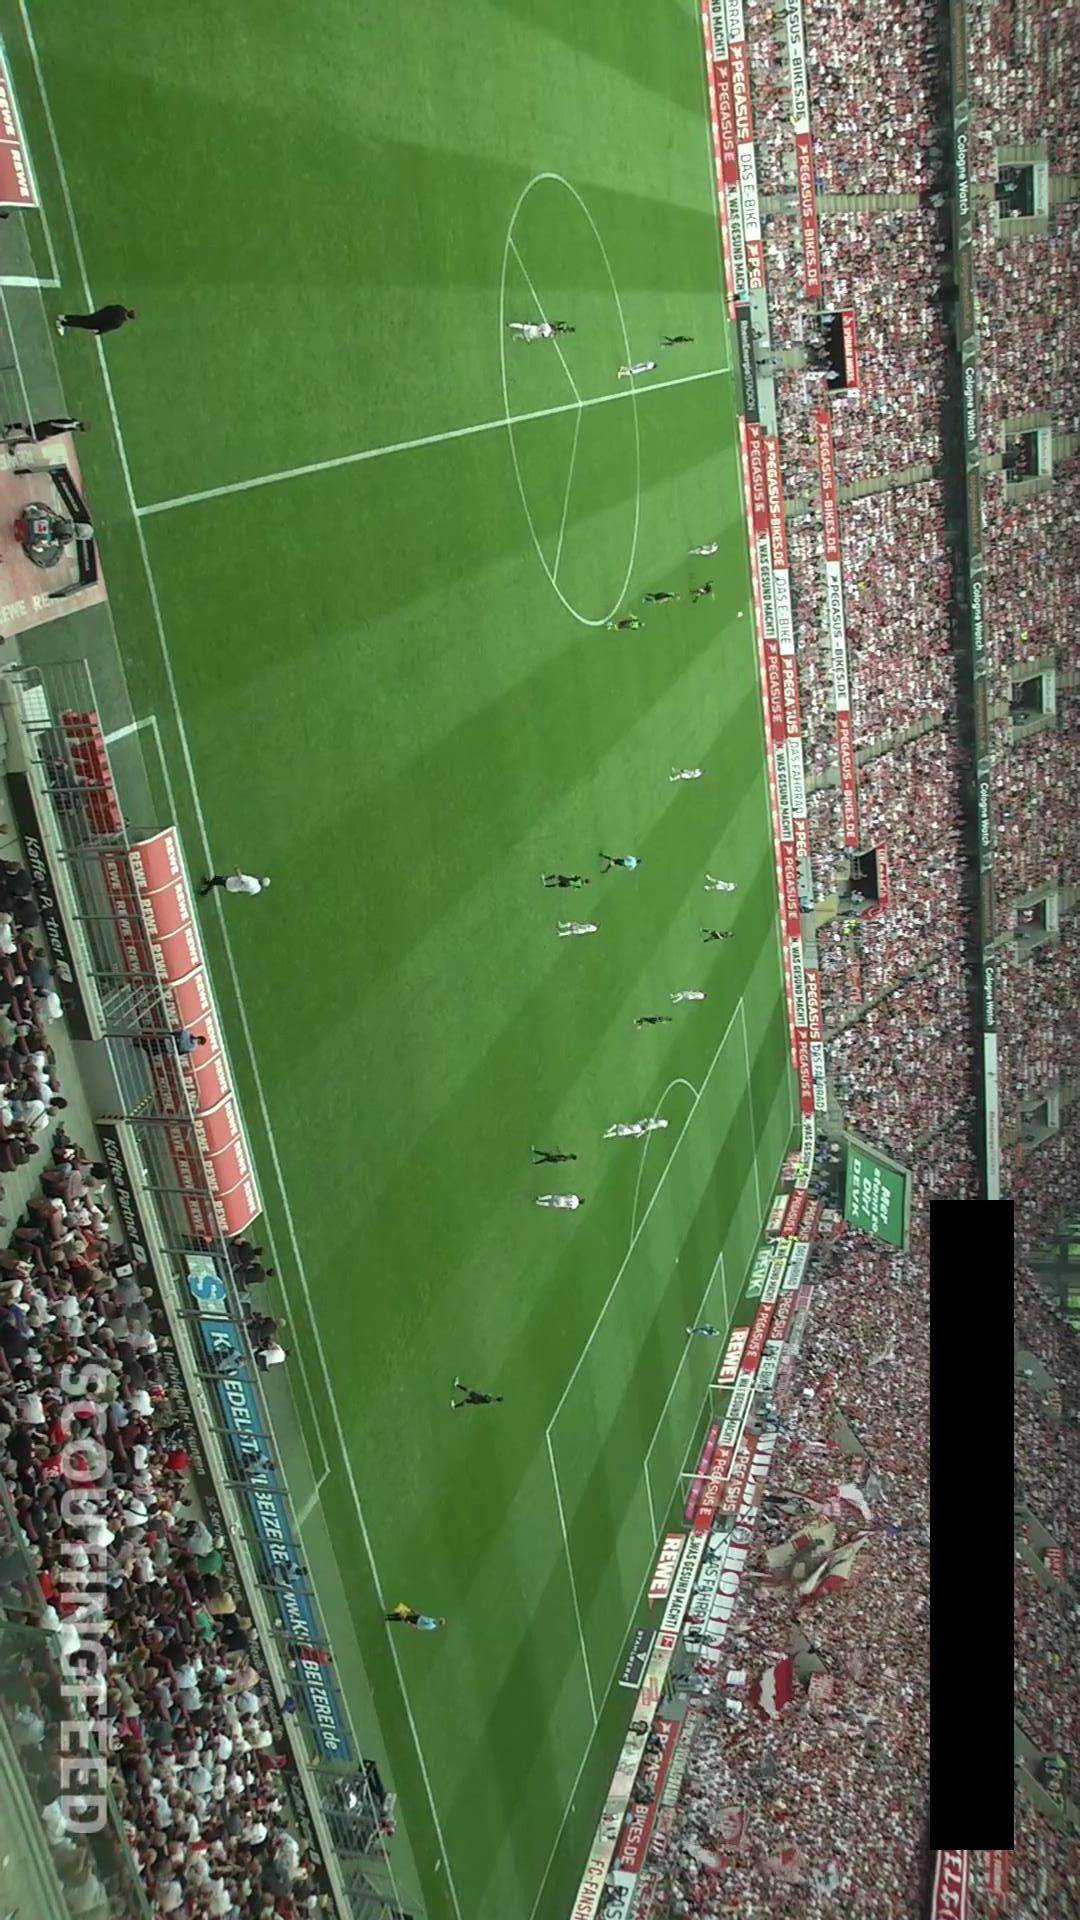ball: (735, 610, 745, 619)
goalkeeper: (685, 1324, 721, 1338)
player: (451, 1380, 504, 1409), (507, 321, 560, 343), (525, 320, 577, 341), (531, 1144, 579, 1166), (602, 1120, 649, 1140), (534, 1193, 586, 1211), (633, 1117, 673, 1139), (541, 873, 591, 889), (618, 360, 659, 378), (557, 921, 601, 937), (607, 614, 647, 631), (704, 873, 737, 892), (670, 766, 705, 782), (701, 928, 735, 944), (670, 990, 708, 1004), (691, 581, 715, 603), (643, 591, 680, 605), (635, 1015, 674, 1028), (661, 335, 696, 347), (688, 543, 720, 556)
referee: (382, 1601, 447, 1631), (599, 851, 644, 874), (721, 291, 755, 307)
